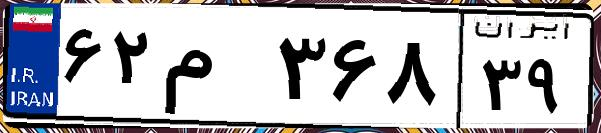2: (110, 28, 158, 98)
3: (270, 28, 330, 110), (475, 38, 525, 113)
6: (330, 28, 385, 110), (57, 26, 110, 100)
8: (385, 28, 445, 110)
9: (525, 38, 570, 115)
م: (158, 20, 270, 120)
